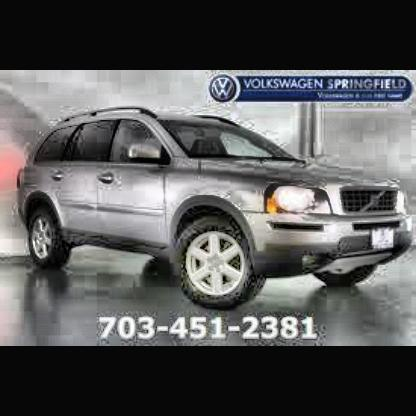Volvo XC90 SUV 2007: (16, 110, 415, 315)
